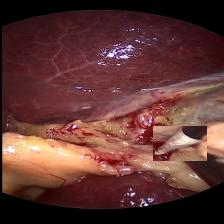Hook: (152, 126, 206, 161)
